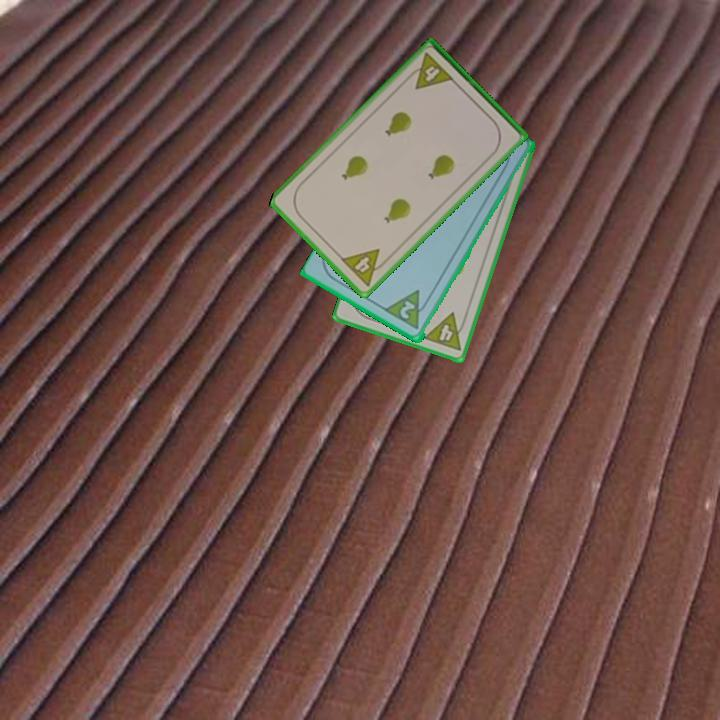2p: (396, 297, 418, 322)
4p: (337, 245, 392, 290), (403, 49, 457, 93), (420, 309, 470, 354)
